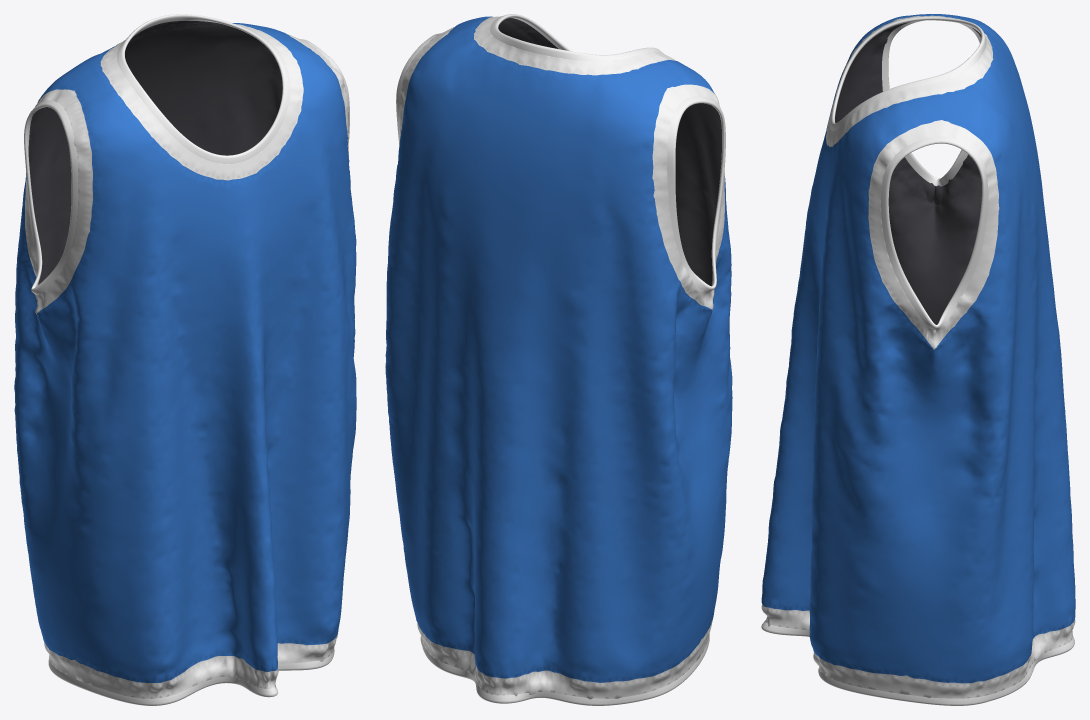
The model's file is rim.glb.
3 views of the same model, side by side, from view 1: azimuth 30°, elevation 25°; view 2: azimuth 150°, elevation 25°; view 3: azimuth 270°, elevation 25° (orthographic). The views are drawn at different scales.
Visible parts, largest first — view 1: Jersey; view 2: Jersey; view 3: Jersey.
Part boxes in pixels (box(x1,y1,x2,y2)): Jersey: box(14, 14, 356, 705); Jersey: box(385, 14, 732, 705); Jersey: box(761, 14, 1075, 705).
Bounding box in the file's own units: 1.5 × 2.89 × 1.34.
